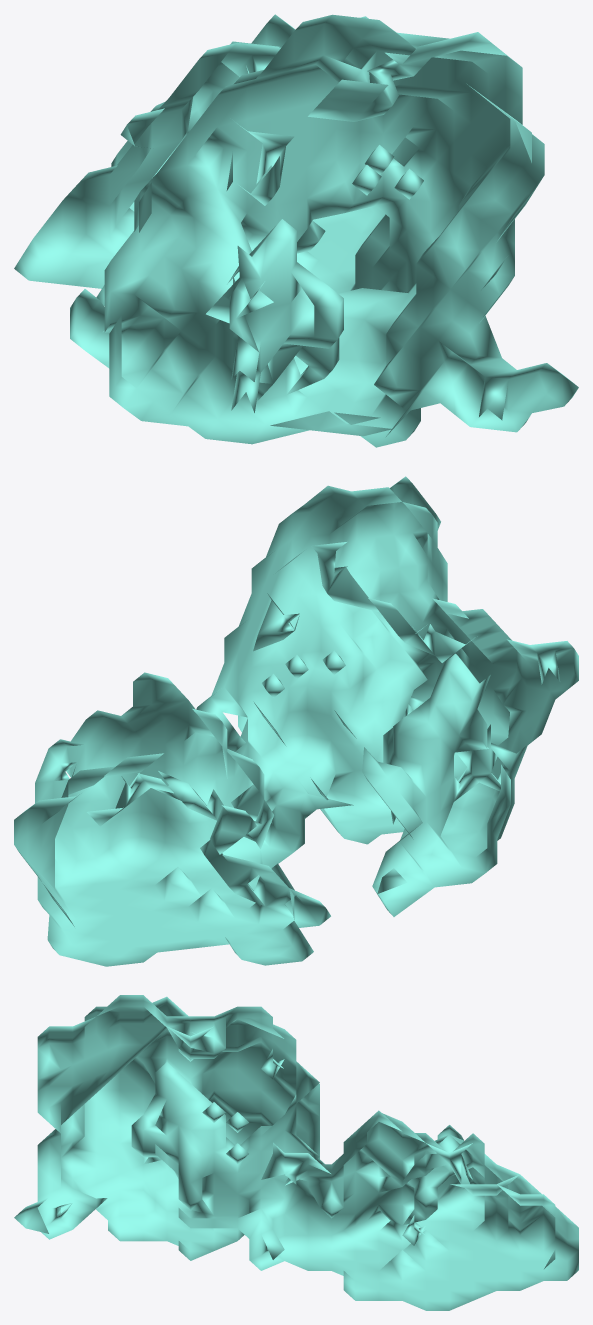
File: osteocyte_4.glb
The picture shows the model from 3 angles, top to bottom: view 1: azimuth 30°, elevation 25°; view 2: azimuth 150°, elevation 25°; view 3: azimuth 270°, elevation 25°; orthographic projection. The views are drawn at different scales.
Parts seen in each view (by area): view 1: osteocyte_4; view 2: osteocyte_4; view 3: osteocyte_4.
Boxes of the visible parts, x1,y1,x2,y2 form: osteocyte_4: (14,14,578,447); osteocyte_4: (14,476,578,966); osteocyte_4: (14,995,578,1310).
Size of the model in its own units: 7.22 by 5.78 by 11.56.
